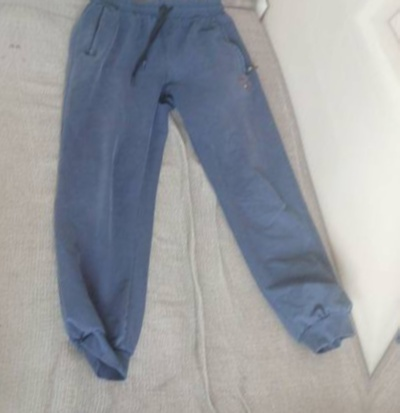Pants: (23, 0, 400, 394), (383, 34, 400, 413), (72, 0, 400, 15)
